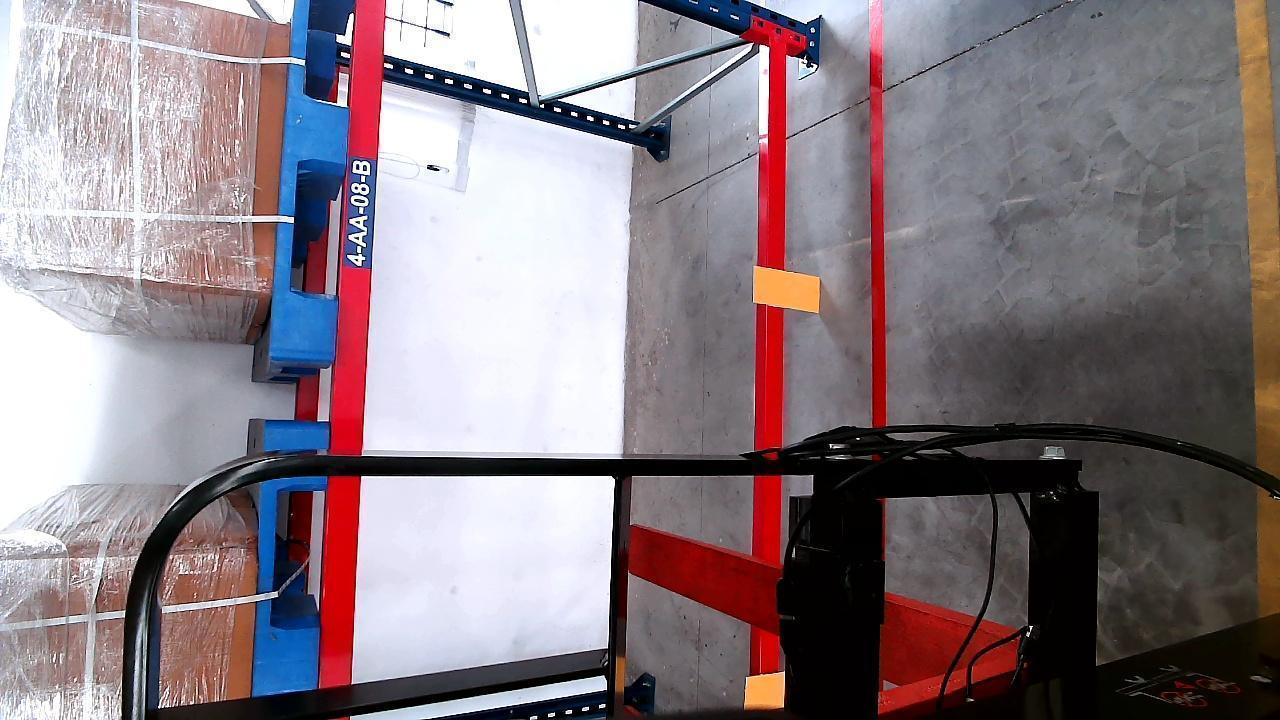red_line: (866, 12, 890, 420)
yellow_line: (1243, 0, 1280, 632)
